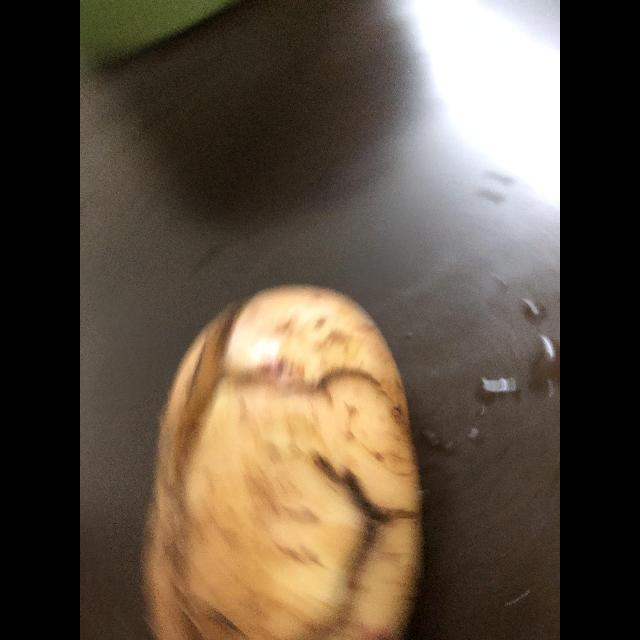Damaged potato: (156, 288, 417, 640)
